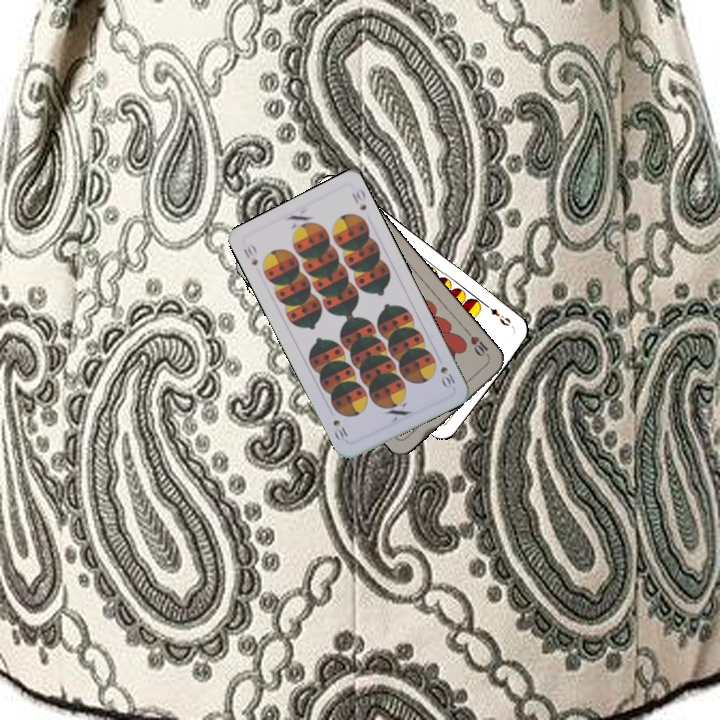E9: (482, 301, 514, 329)
H10: (463, 327, 493, 362)
S10: (436, 362, 459, 391), (239, 239, 261, 268)
